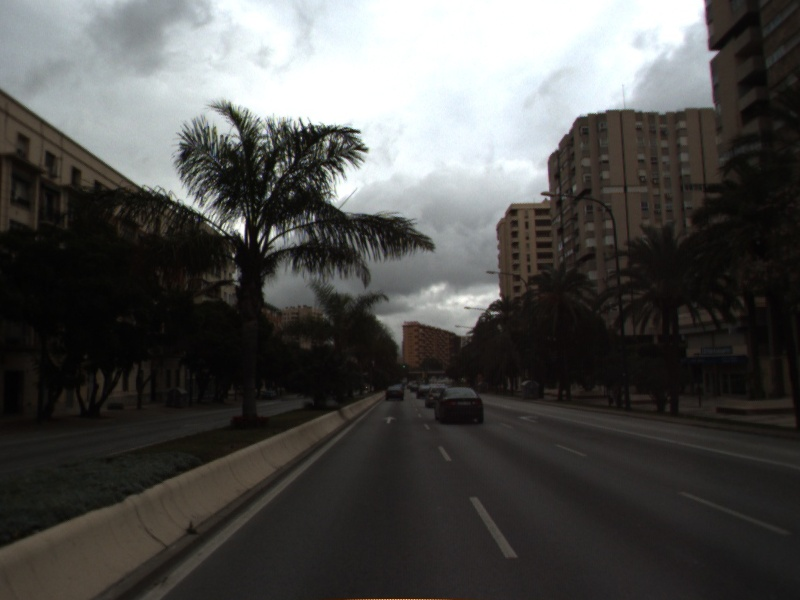RIGHT: (516, 413, 542, 426)
STRAIGHT: (381, 414, 398, 425)
